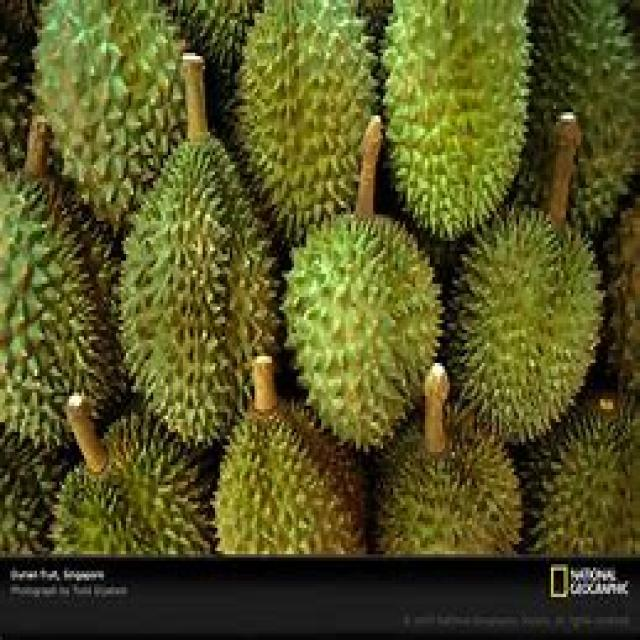immature: (112, 134, 280, 444), (277, 204, 444, 452), (446, 199, 605, 444), (231, 0, 380, 247), (381, 0, 531, 244), (30, 0, 186, 231)
